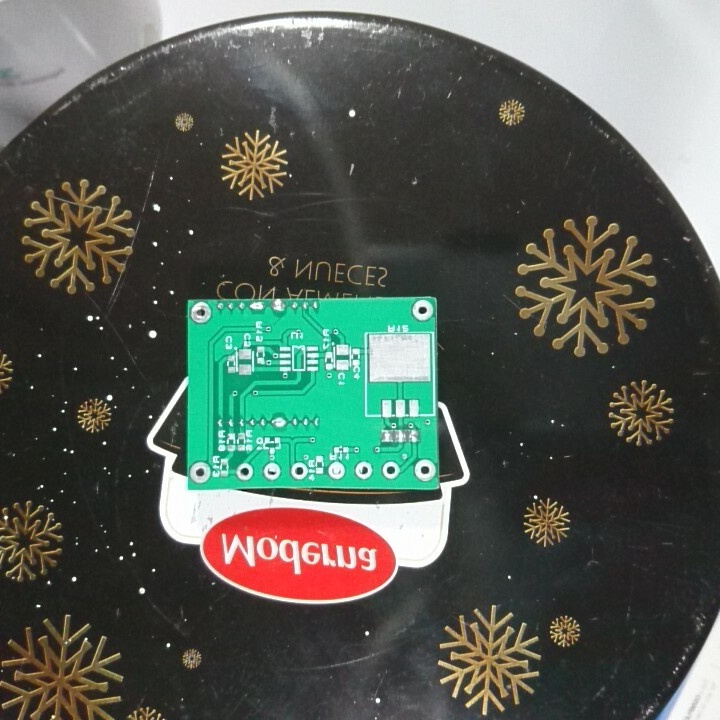F: (187, 300, 213, 326), (410, 298, 435, 324), (413, 457, 437, 483), (188, 459, 211, 486), (380, 459, 404, 483), (353, 459, 374, 481), (261, 460, 282, 482), (326, 460, 347, 480), (234, 460, 254, 481), (288, 462, 310, 480)
P: (270, 415, 291, 431), (247, 298, 268, 313), (270, 299, 287, 315)
